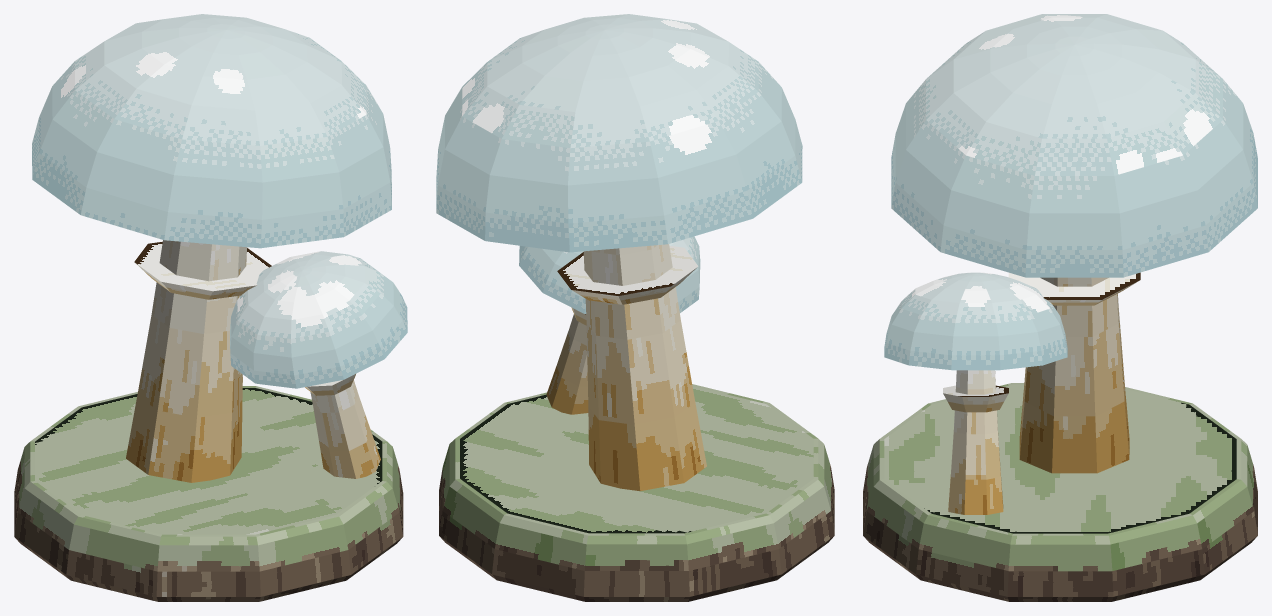
File: mushlamp.glb
3 renders of one model, left to right at view 1: azimuth 30°, elevation 25°; view 2: azimuth 150°, elevation 25°; view 3: azimuth 270°, elevation 25°, orthographic.
Visible parts, largest first — view 1: glow_cap0, stump, stem0, glow_cap1, stem1, skirt0, skirt1; view 2: glow_cap0, stump, stem0, glow_cap1, skirt0, stem1; view 3: glow_cap0, stump, stem0, glow_cap1, stem1, skirt0, skirt1.
Boxes of the visible parts, bbox=[...] form: glow_cap0: bbox=[32, 14, 391, 248]; stump: bbox=[14, 386, 403, 601]; stem0: bbox=[126, 240, 246, 482]; glow_cap1: bbox=[230, 251, 407, 388]; stem1: bbox=[310, 380, 380, 478]; skirt0: bbox=[134, 241, 271, 299]; skirt1: bbox=[305, 374, 355, 395]; glow_cap0: bbox=[436, 14, 802, 252]; stump: bbox=[439, 384, 834, 601]; stem0: bbox=[583, 244, 706, 491]; glow_cap1: bbox=[519, 236, 700, 313]; skirt0: bbox=[557, 245, 698, 304]; stem1: bbox=[546, 314, 588, 414]; glow_cap0: bbox=[891, 14, 1257, 277]; stump: bbox=[863, 383, 1257, 601]; stem0: bbox=[1019, 277, 1129, 473]; glow_cap1: bbox=[884, 272, 1067, 370]; stem1: bbox=[948, 370, 1003, 514]; skirt0: bbox=[1008, 272, 1140, 305]; skirt1: bbox=[943, 385, 1008, 412].
Size of the model in its own units: 0.7 by 0.9598 by 0.7.
Materials: 2 (2 with a texture image).
